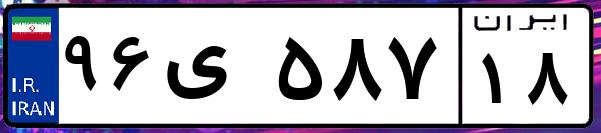1: (475, 38, 525, 113)
5: (270, 28, 330, 110)
6: (110, 28, 158, 98)
7: (385, 28, 445, 110)
8: (330, 28, 385, 110), (525, 38, 570, 115)
9: (57, 26, 110, 100)
ی: (158, 20, 270, 120)
